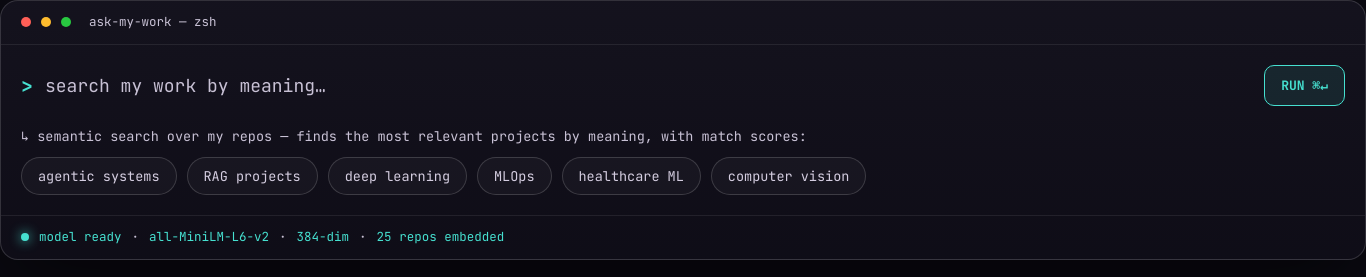
shows empty state when no match
Type "xyz" into the search field at (649, 86), box [45, 72, 1252, 99]
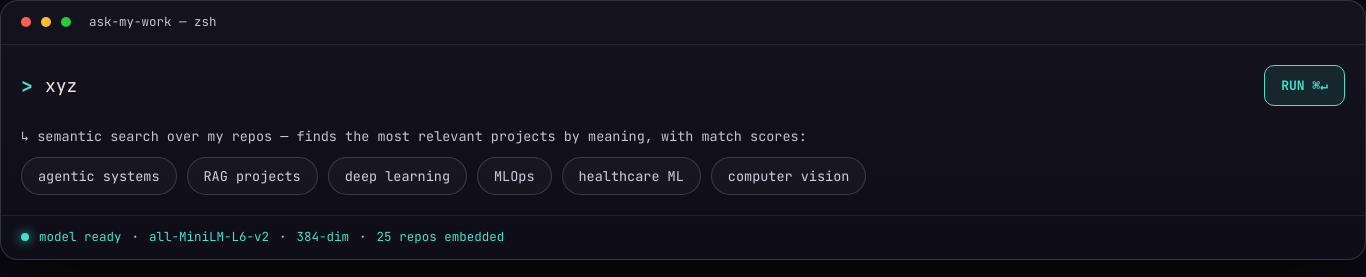
Submit the form, box [21, 65, 1345, 106]
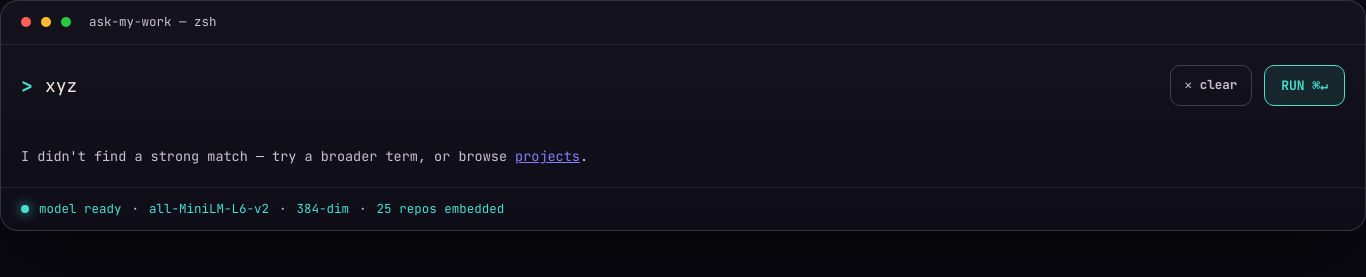
Check: the text "didn't find a strong match" is shown, box [21, 147, 507, 165]
